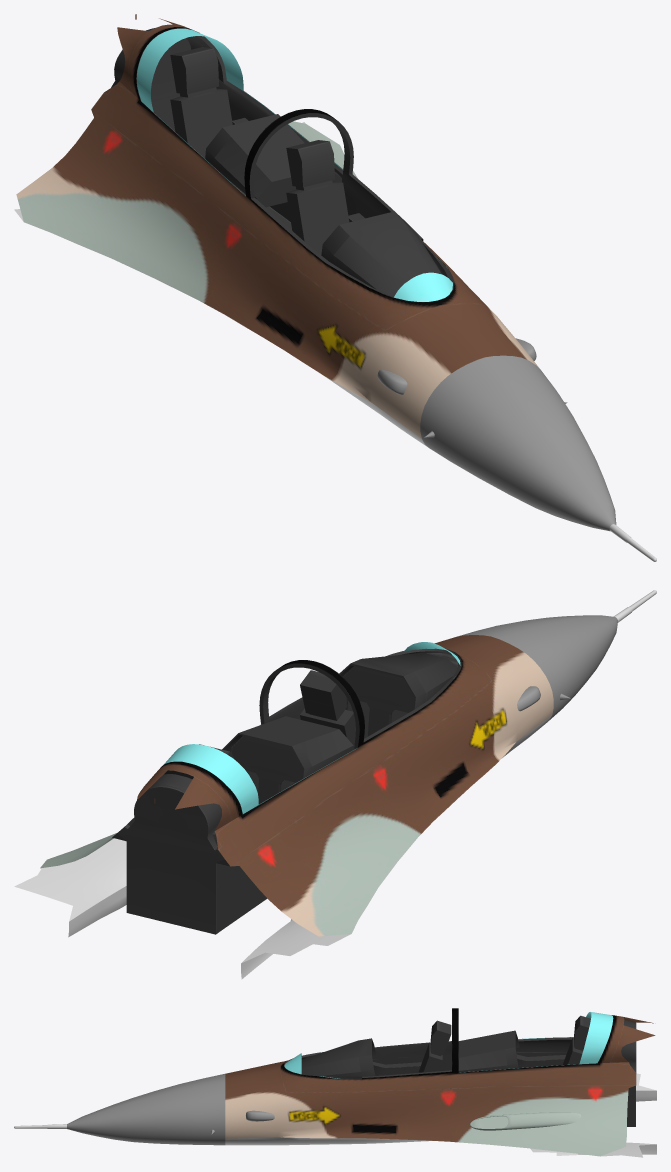
Rendered from cockpit.obj.
3 renders of one model, top to bottom at view 1: azimuth 30°, elevation 25°; view 2: azimuth 150°, elevation 25°; view 3: azimuth 270°, elevation 25°, orthographic. The views are drawn at different scales.
Visible parts, largest first — view 1: F_16D; view 2: F_16D; view 3: F_16D.
Part boxes in pixels (left/top/right/bottom): F_16D: left=14, top=14, right=656, bottom=561; F_16D: left=14, top=590, right=656, bottom=979; F_16D: left=14, top=1008, right=656, bottom=1157.
Bounding box in the file's own units: 5.17 × 3.33 × 14.72.
Materials: 1 (1 with a texture image).
